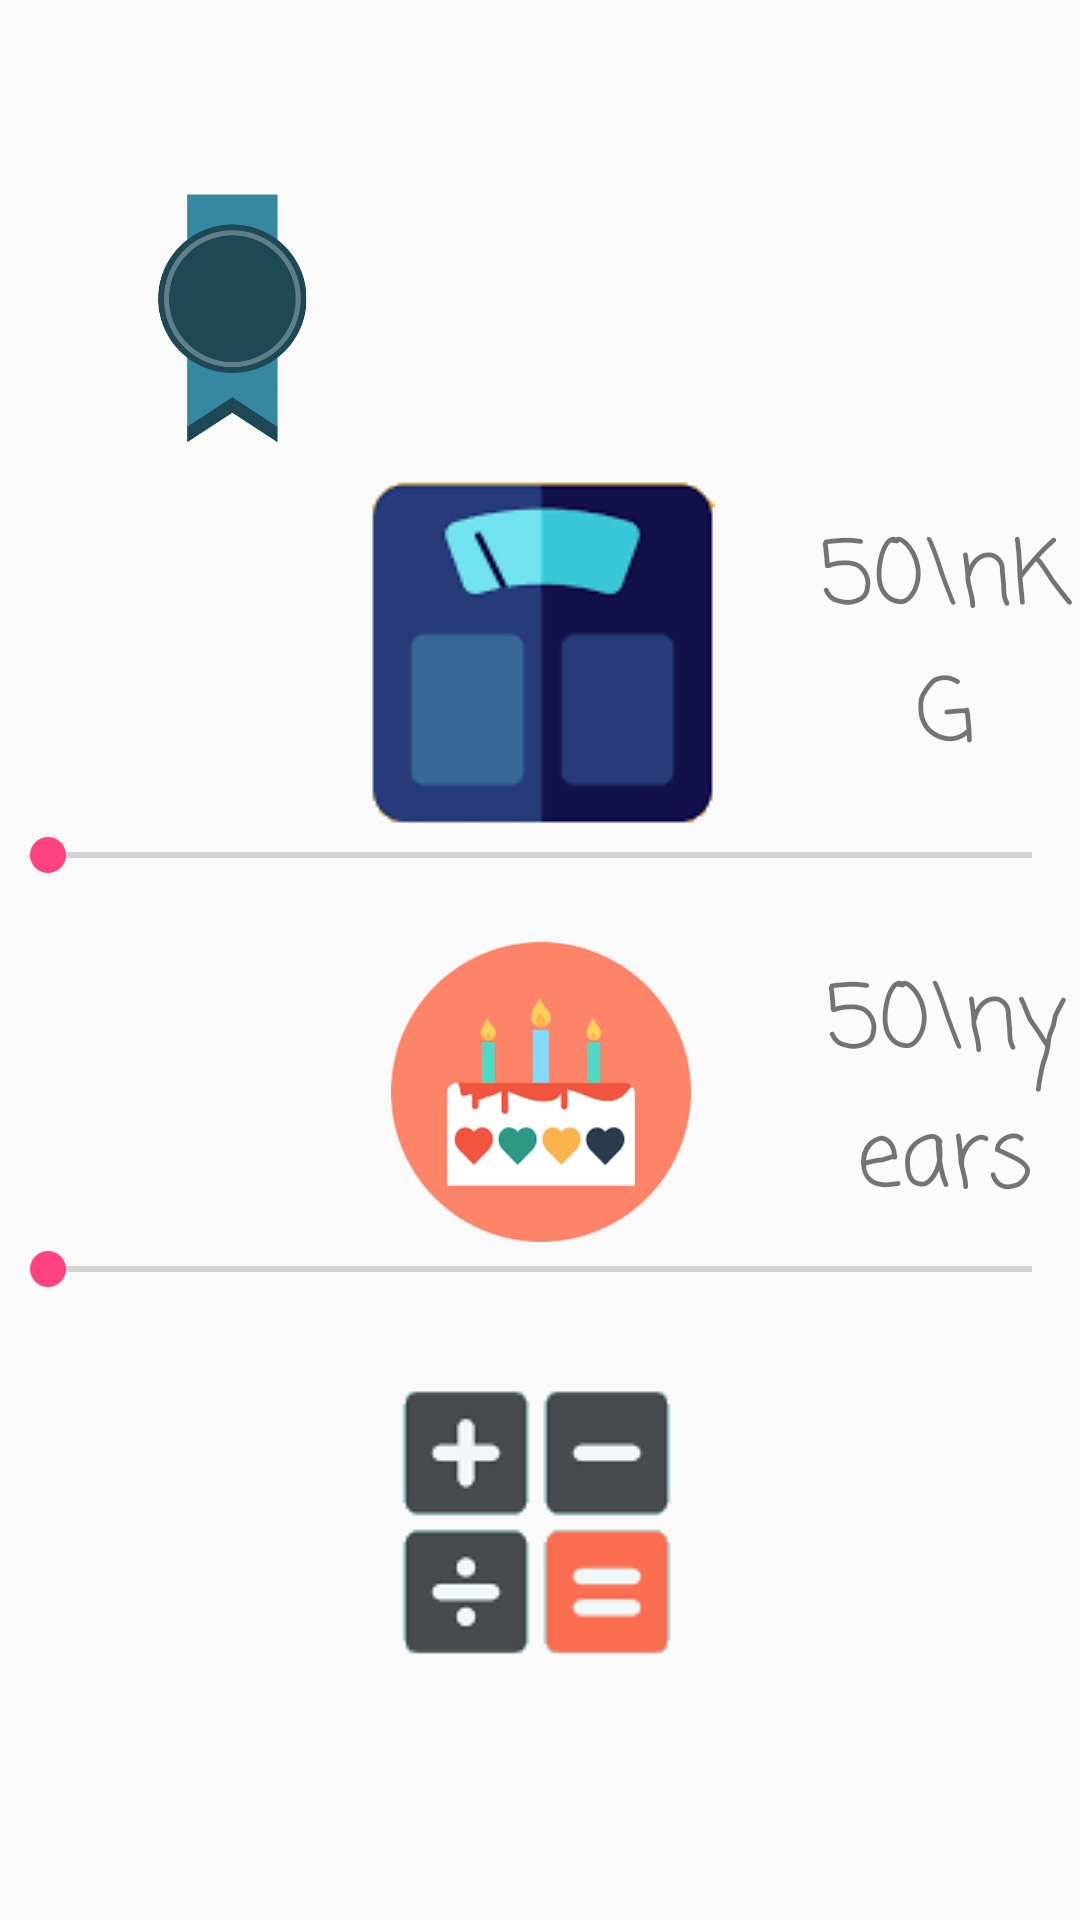

Screen size 1080w x 1920h. Icon name, then its center in pixels as (x,y):
age bez: (541,1092)
calculate bez: (536,1522)
ribbonpion: (232,318)
waga bez: (543,652)
